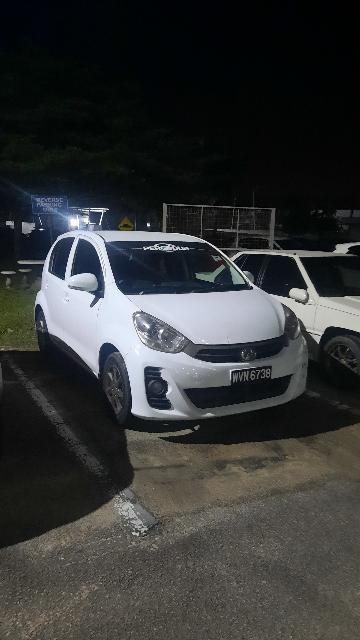License_Plate: (228, 362, 274, 386)
car: (36, 228, 315, 425)
